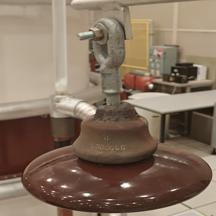insulator: (19, 99, 212, 214)
